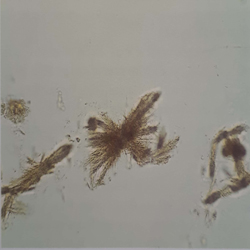Crystal: (79, 82, 181, 194), (1, 141, 76, 225), (199, 118, 250, 211), (1, 91, 32, 126)
